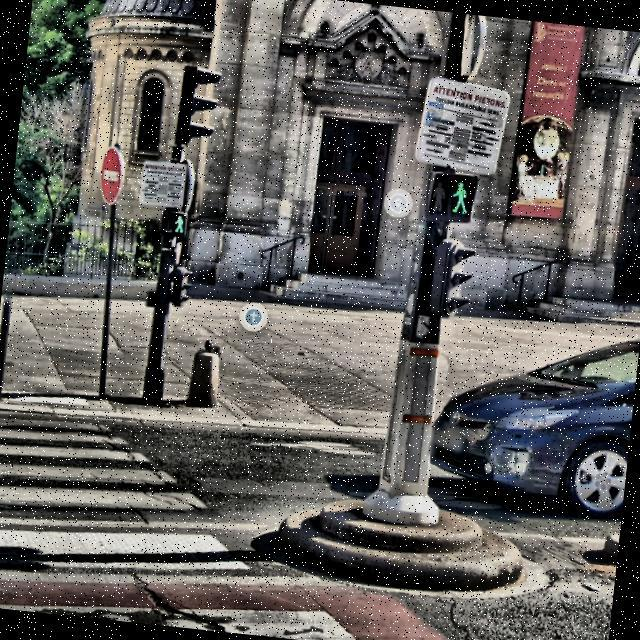green_light: (446, 178, 474, 215), (170, 212, 186, 234)
